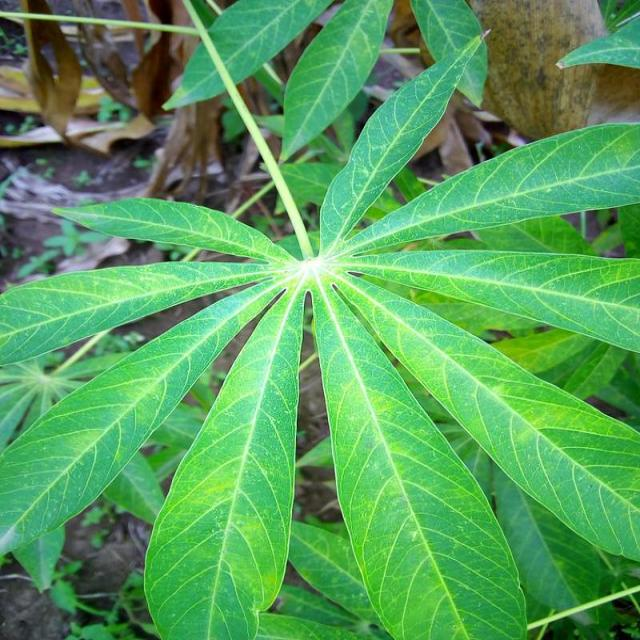cassava leaf: (1, 2, 638, 637), (309, 273, 528, 638), (142, 279, 306, 638)
